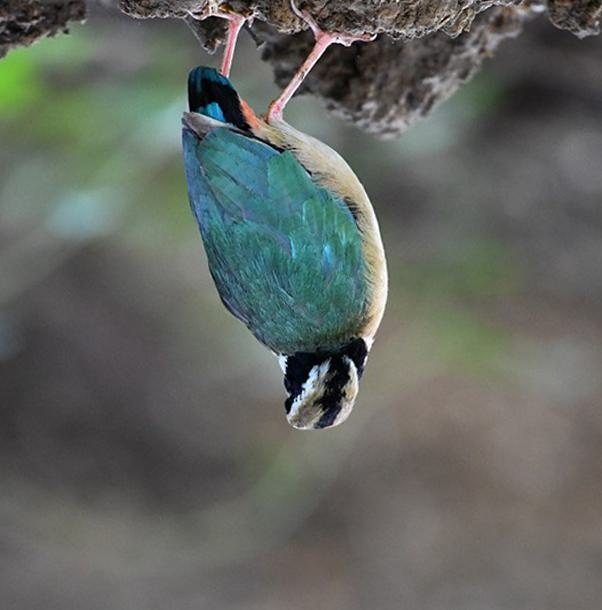pitta: (138, 7, 405, 452)
